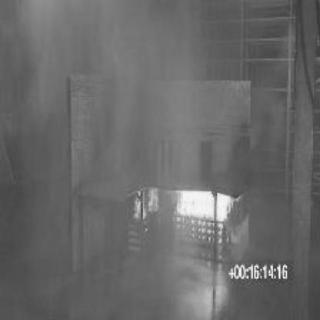Fire: (124, 177, 240, 229)
